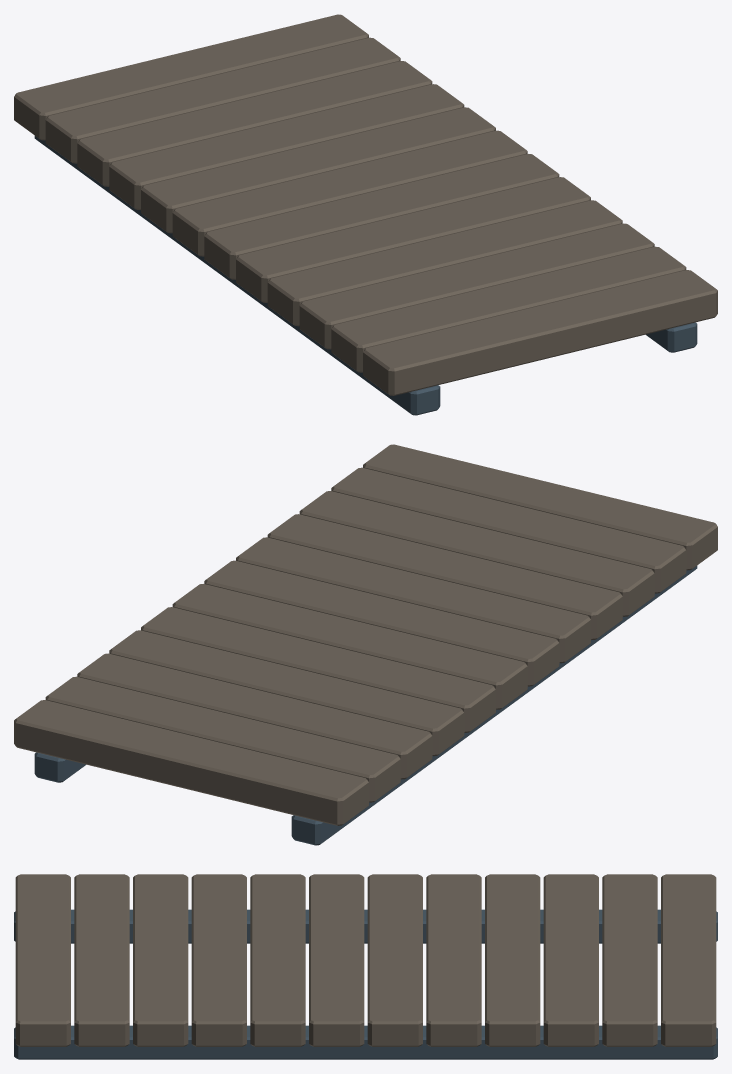
File: bridge.glb
3 renders of one model, top to bottom at view 1: azimuth 30°, elevation 25°; view 2: azimuth 150°, elevation 25°; view 3: azimuth 270°, elevation 25°, orthographic. The views are drawn at different scales.
Visible parts, largest first — view 1: bridge__body; view 2: bridge__body; view 3: bridge__body.
Part boxes in pixels (box(x1,y1,x2,y2)): bridge__body: box(14, 14, 717, 415); bridge__body: box(14, 444, 717, 845); bridge__body: box(14, 874, 717, 1059).
Size of the model in its own units: 2 by 0.3 by 4.
